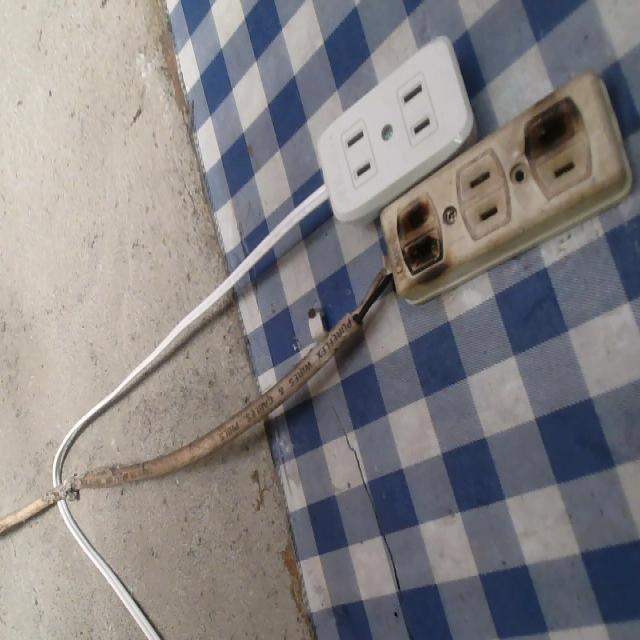-: (391, 189, 457, 284), (522, 95, 580, 165)
